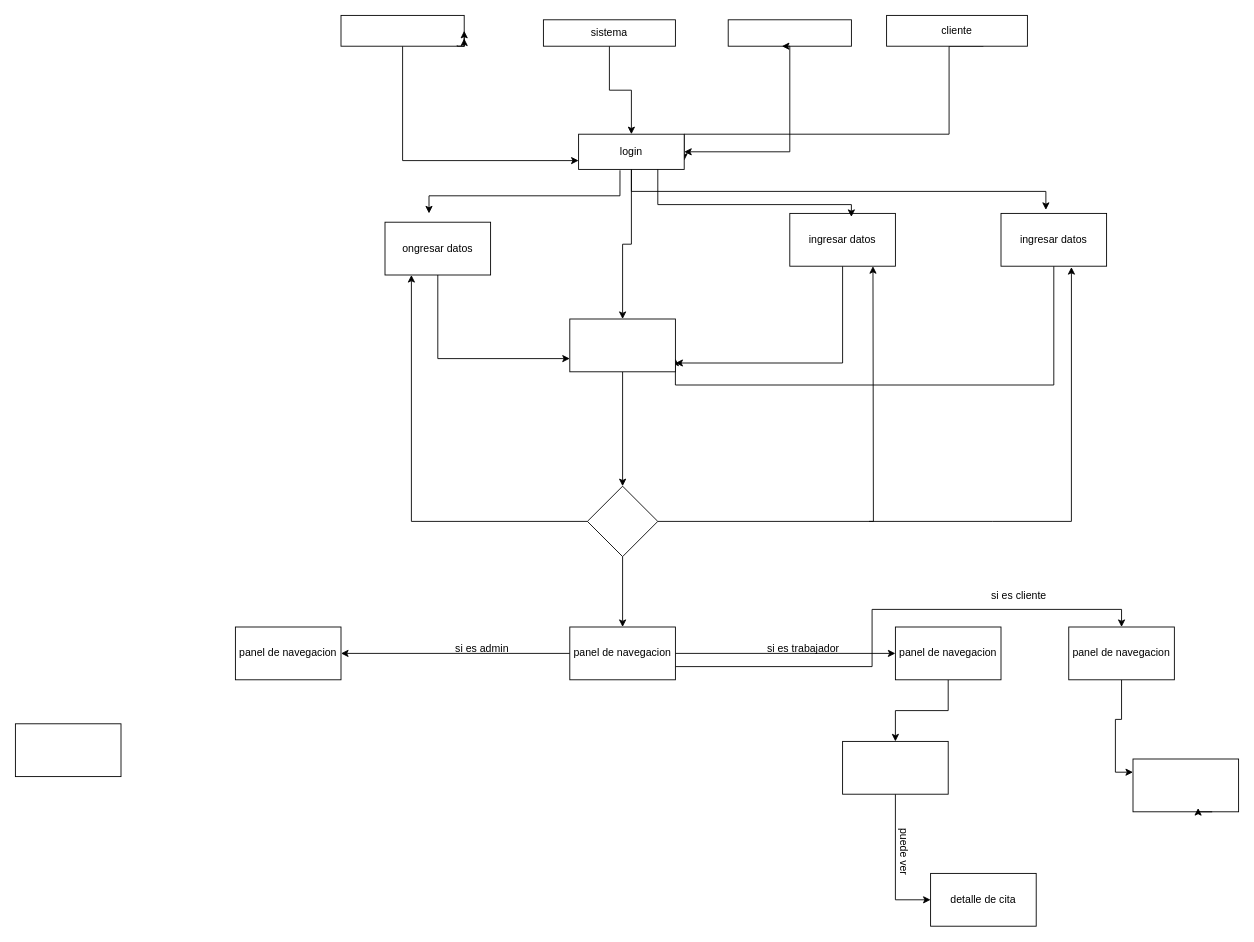
This 1254x942 diagram has some shape labels left out. The shapes that lost their labels are listed below. From the top down, each one's centre as x and y in pixels, then its label:
the point at 402,30: administrador
the point at 789,32: trabajador
the point at 622,345: validar datos
the point at 622,521: datos correctos
the point at 895,767: ver citas
the point at 1185,785: solisita un servicio
